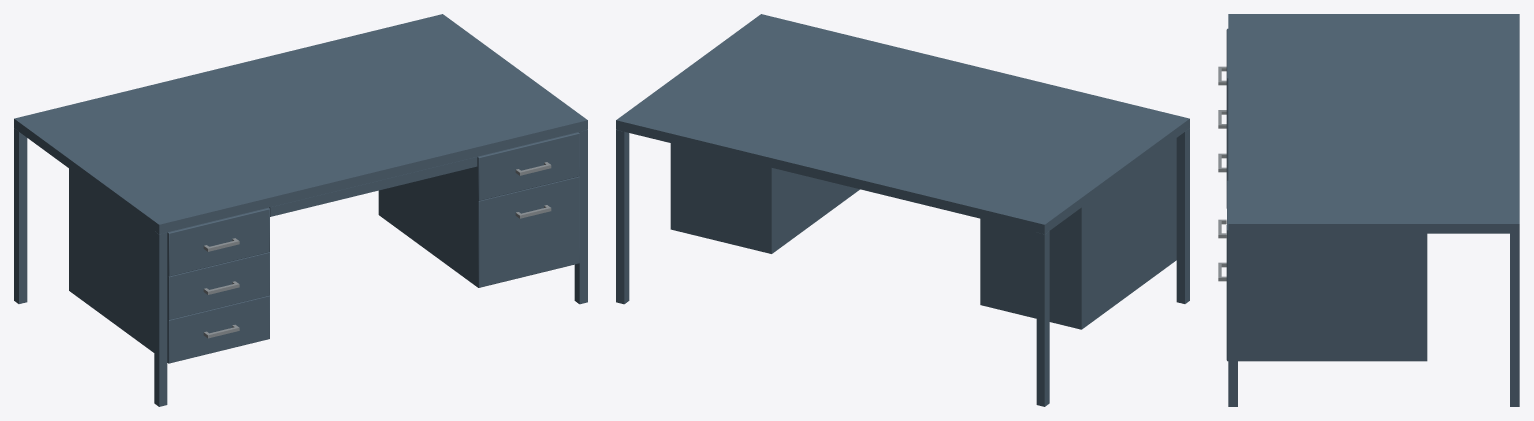
Rendered from Metal_table.fbx.
The picture shows the model from 3 angles, left to right: view 1: azimuth 30°, elevation 25°; view 2: azimuth 150°, elevation 25°; view 3: azimuth 270°, elevation 25°; orthographic projection.
Parts seen in each view (by area): view 1: pCube15; view 2: pCube15; view 3: pCube15.
Part boxes in pixels (x1,y1,x2,y2): pCube15: (14,14,587,406); pCube15: (616,14,1189,406); pCube15: (1218,14,1519,406).
Size of the model in its own units: 3.44 by 1.4 by 2.08.
1 material, 1 textured.
